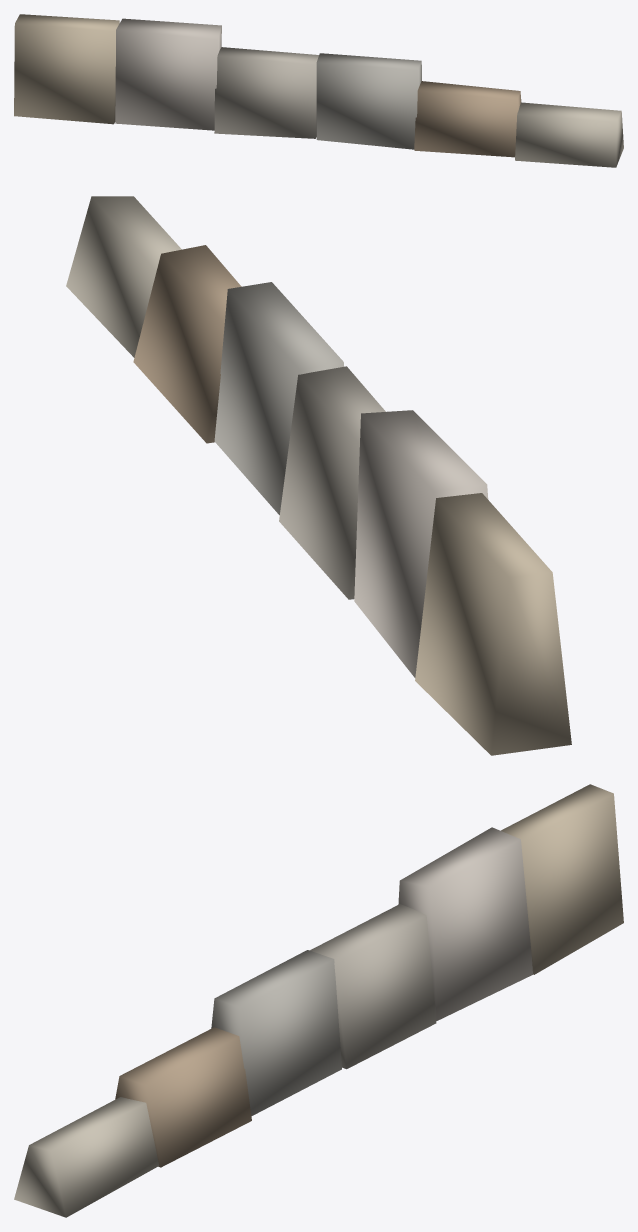
Rendered from farm_-44_-39_far.glb.
3 views of the same model, one above another, from view 1: azimuth 30°, elevation 25°; view 2: azimuth 150°, elevation 25°; view 3: azimuth 270°, elevation 25° (orthographic). The views are drawn at different scales.
Parts seen in each view (by area): view 1: geometry_0; view 2: geometry_0; view 3: geometry_0.
Part boxes in pixels (bbox=[...]): geometry_0: bbox=[14, 14, 623, 167]; geometry_0: bbox=[66, 196, 571, 755]; geometry_0: bbox=[14, 784, 623, 1217].
Bounding box in the file's own units: 7.41 × 1.6 × 6.34.
